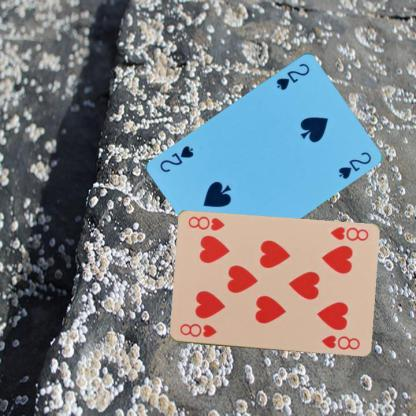2s: (273, 60, 311, 91)
8h: (326, 224, 370, 243), (177, 321, 218, 339)
